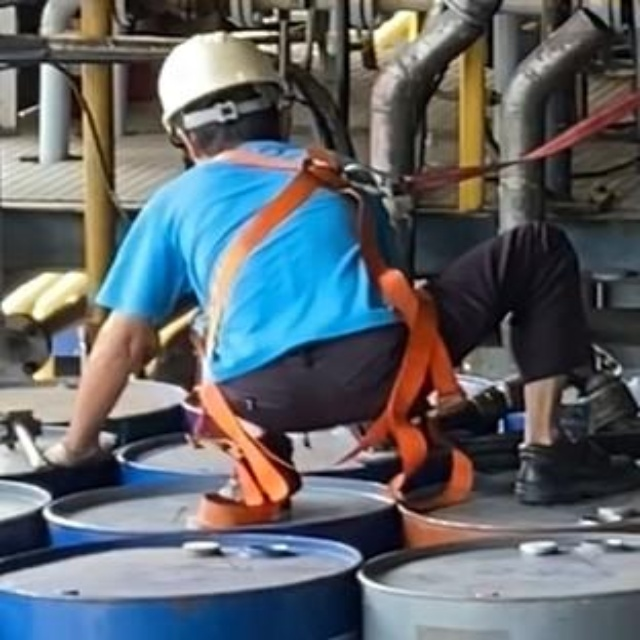Arnes_seguridad: (185, 146, 470, 531)
